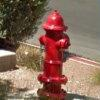Hydrant: (30, 5, 73, 94)
